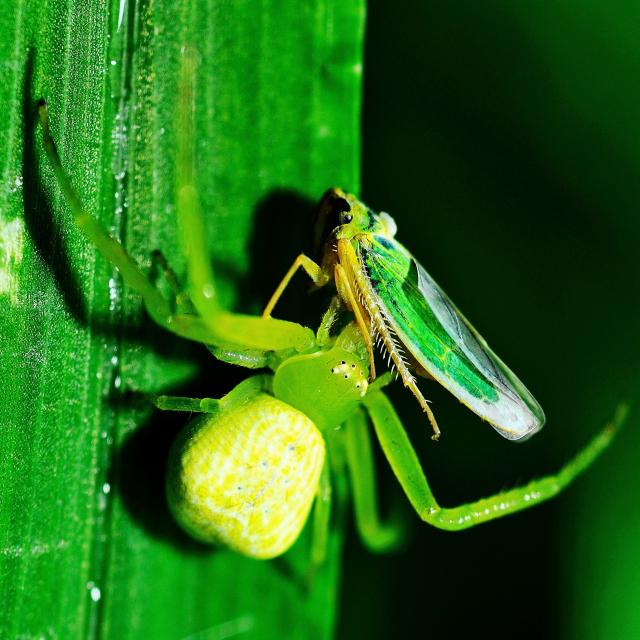Yechan: (304, 174, 571, 442)
